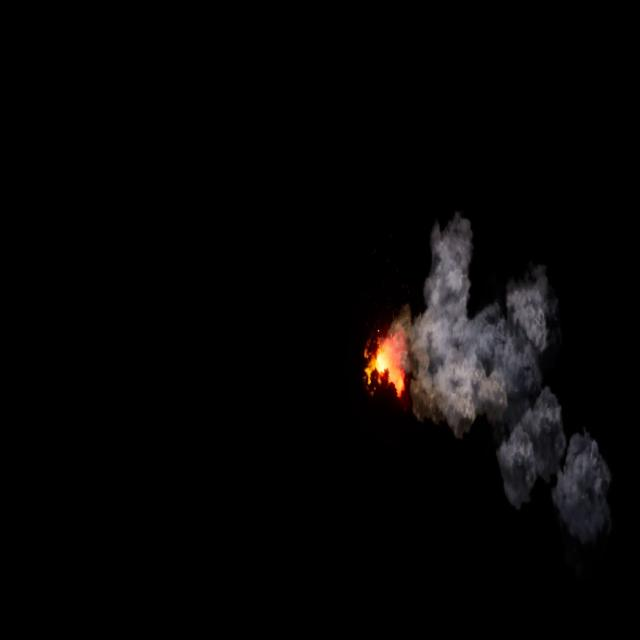fire: (360, 329, 402, 397)
smoke: (410, 212, 608, 546)
